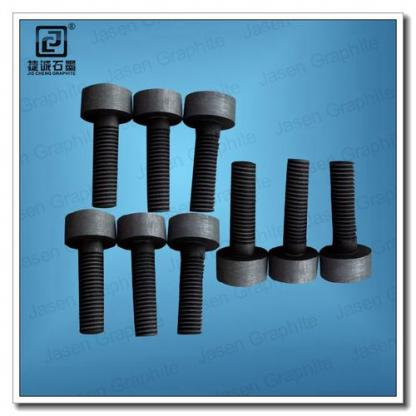FOD: (61, 207, 117, 335), (320, 157, 374, 287), (182, 87, 237, 214), (215, 160, 269, 288), (79, 82, 133, 210), (268, 155, 320, 286), (116, 212, 168, 340), (133, 86, 184, 216), (168, 210, 220, 337)
